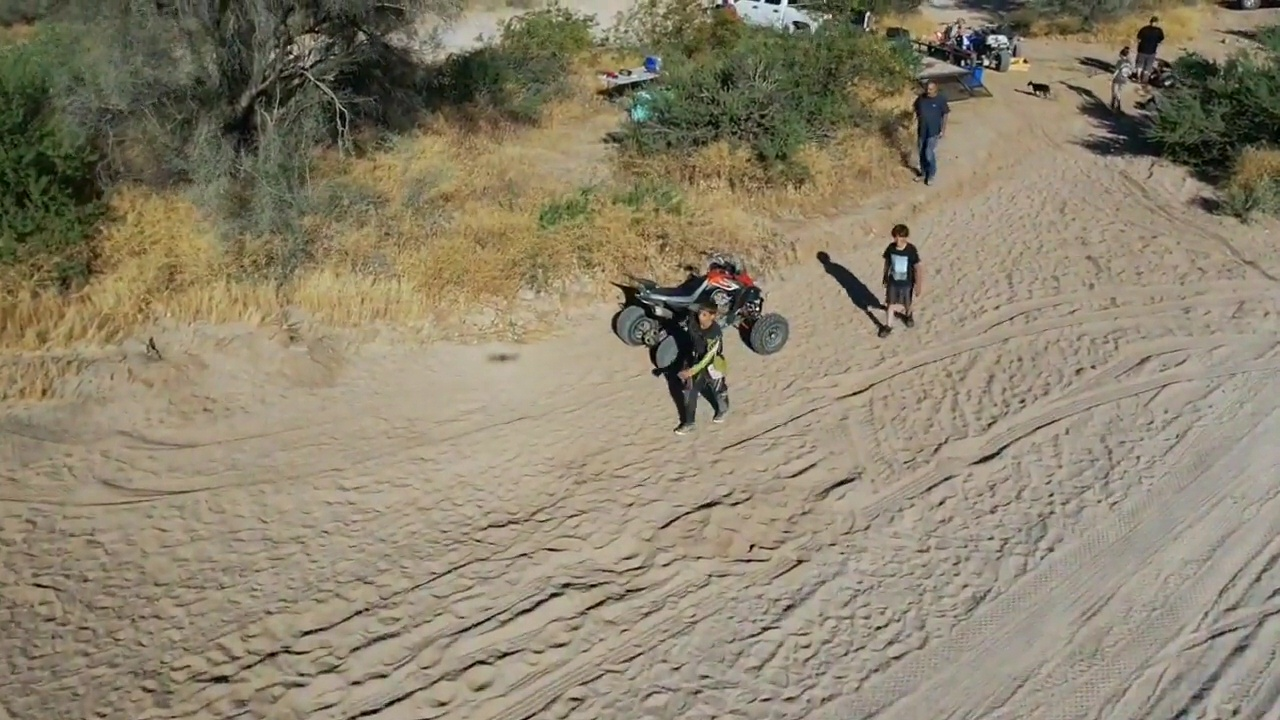insan: (674, 300, 734, 431), (876, 220, 925, 337), (907, 74, 949, 180), (1102, 44, 1138, 119), (1132, 13, 1167, 85)
